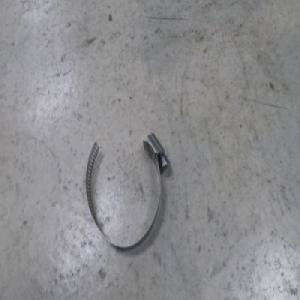AdjustableClamp: (85, 131, 168, 249)
